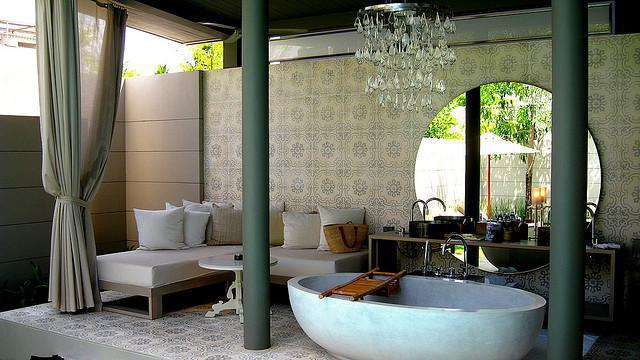Lavamanos: (542, 198, 620, 256), (407, 193, 465, 236)
